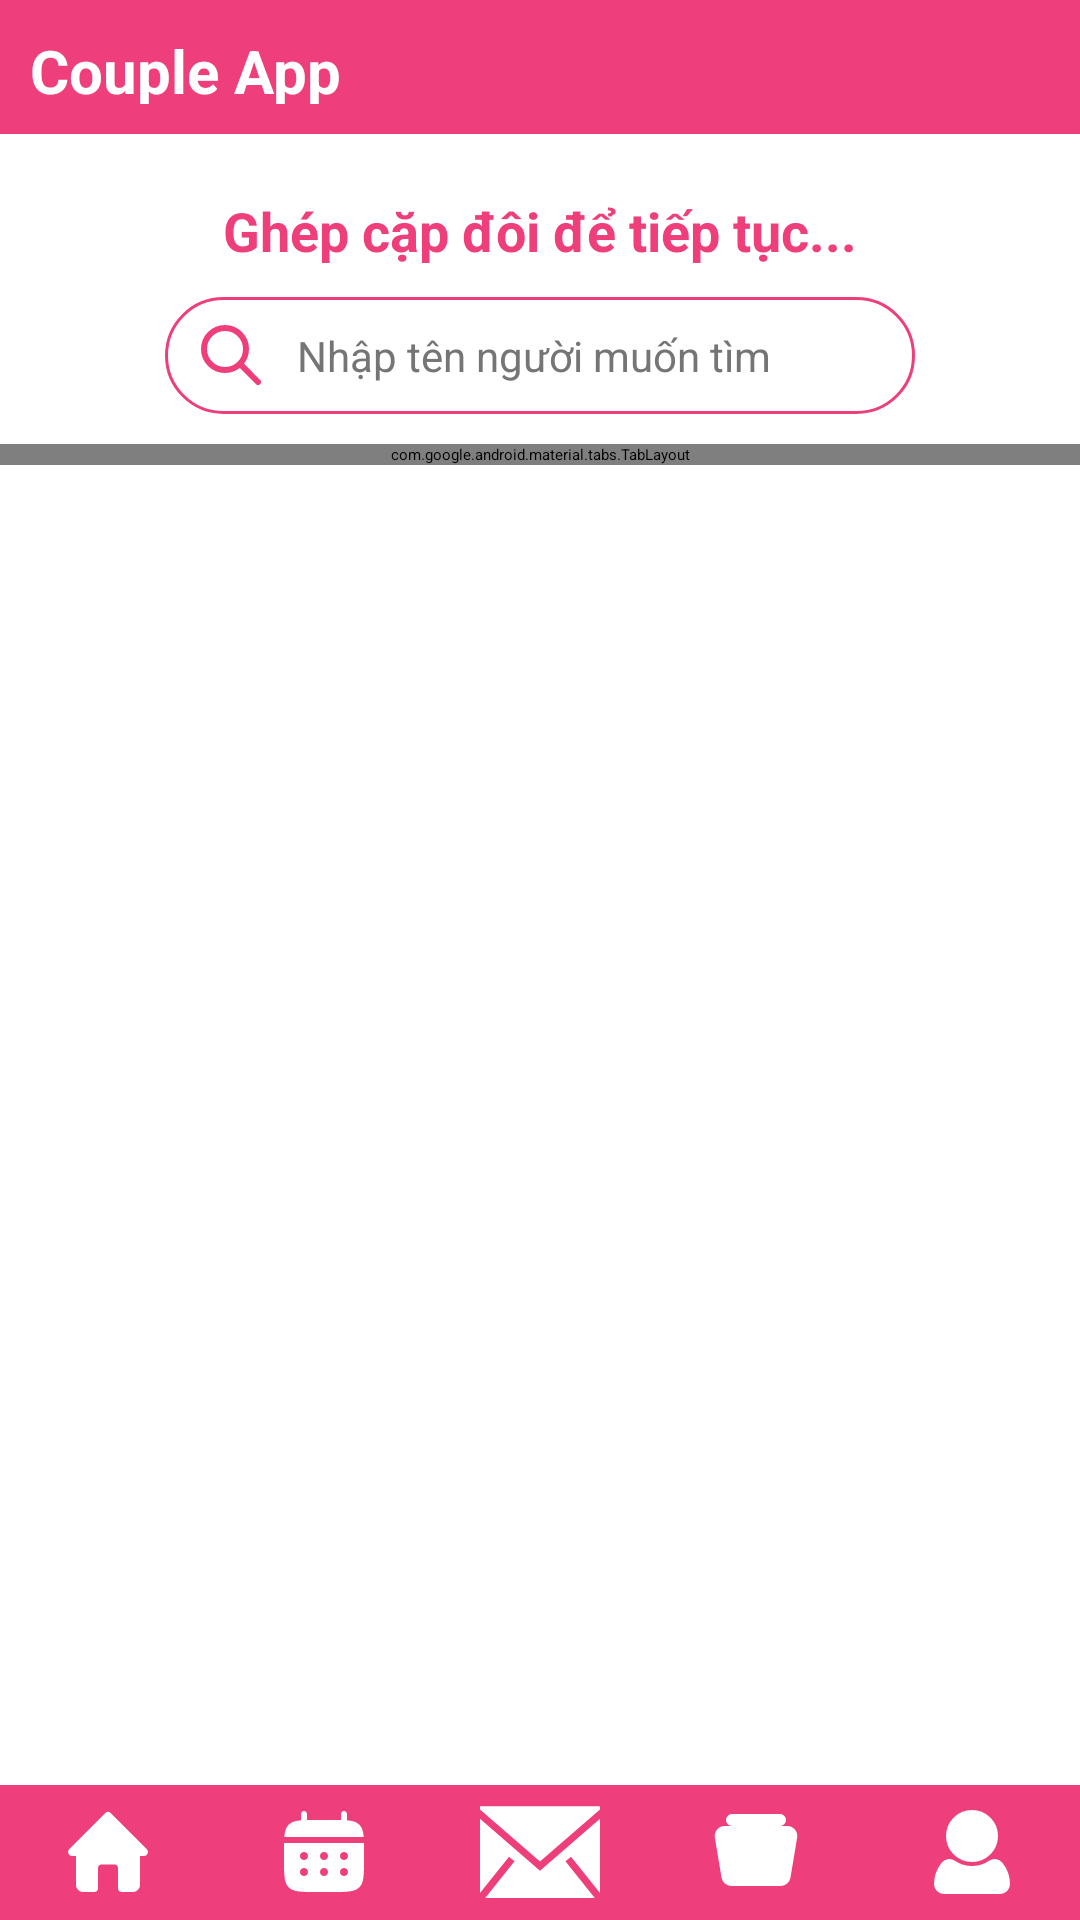

Locate icon controls on the screen. Image size 1080 x 1920, boxes as (x1, y1, x2, y2).
calendar: (284, 1811, 364, 1892)
home: (68, 1812, 148, 1892)
message: (480, 1806, 600, 1898)
search: (201, 325, 261, 385)
